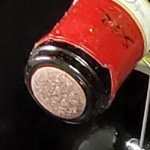bottle: (15, 31, 119, 141)
